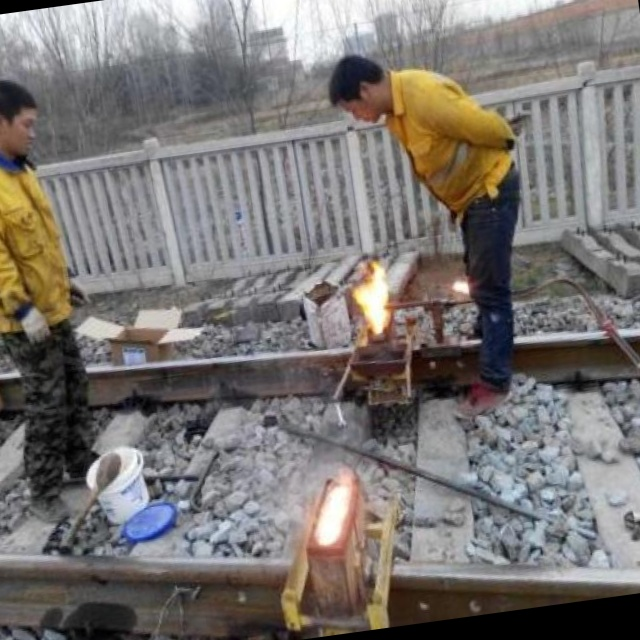Sin_Casco_Mascarrilla: (327, 49, 394, 125), (0, 75, 48, 157)
